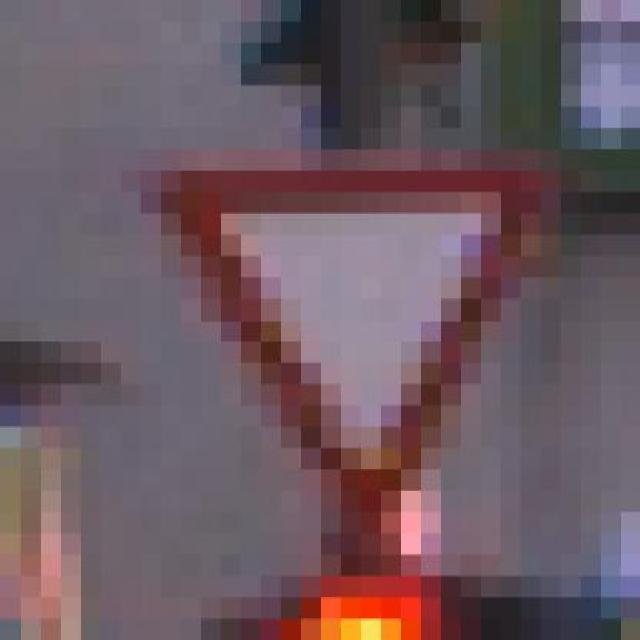Give Way: (160, 128, 600, 555)
